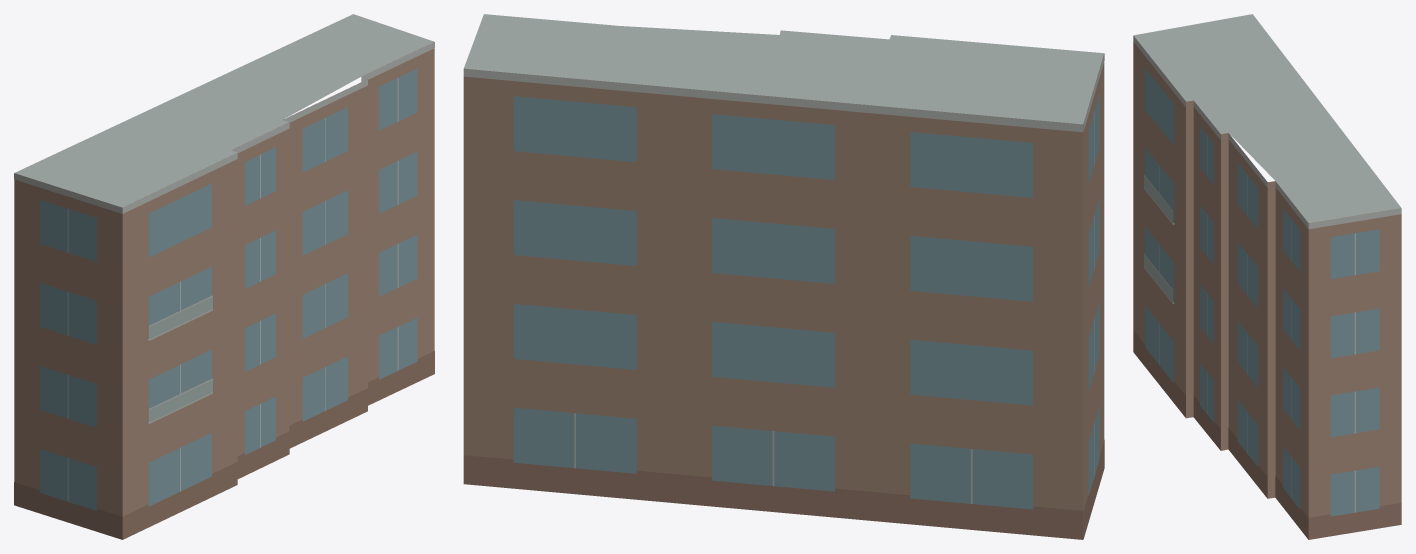
Rendered from survey-upis-32518301.glb.
3 views of the same model, side by side, from view 1: azimuth 30°, elevation 25°; view 2: azimuth 150°, elevation 25°; view 3: azimuth 270°, elevation 25° (orthographic). The views are drawn at different scales.
Parts seen in each view (by area): view 1: survey-upis-32518301.tmp; view 2: survey-upis-32518301.tmp; view 3: survey-upis-32518301.tmp.
Boxes of the visible parts, box(x1,y1,x2,y2) form: survey-upis-32518301.tmp: box(14, 14, 434, 539); survey-upis-32518301.tmp: box(463, 14, 1104, 539); survey-upis-32518301.tmp: box(1133, 14, 1401, 539).
Size of the model in its own units: 18.16 by 12.8 by 9.84.
